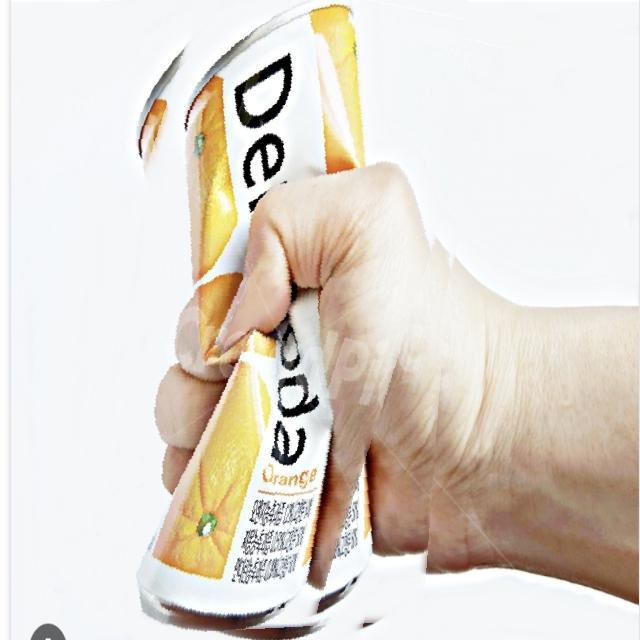recyclable: (90, 0, 470, 640)
